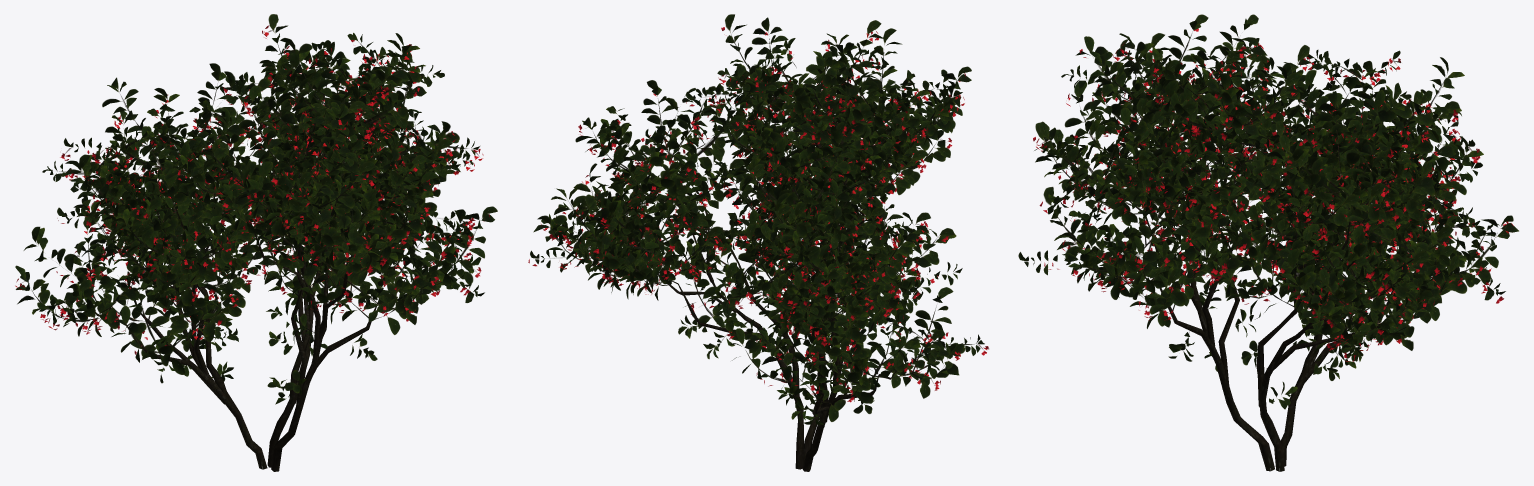
File: veg-29.glb
3 views of the same model, side by side, from view 1: azimuth 30°, elevation 25°; view 2: azimuth 150°, elevation 25°; view 3: azimuth 270°, elevation 25° (orthographic). The views are drawn at different scales.
Parts seen in each view (by area): view 1: _aaa1_VarC_LOD2_29; view 2: _aaa1_VarC_LOD2_29; view 3: _aaa1_VarC_LOD2_29.
Boxes of the visible parts, x1,y1,x2,y2 form: _aaa1_VarC_LOD2_29: (15,14,497,471); _aaa1_VarC_LOD2_29: (528,14,988,471); _aaa1_VarC_LOD2_29: (1018,14,1518,471).
Bounding box in the file's own units: 1.39 × 1.25 × 1.27.
1 material, 1 textured.
